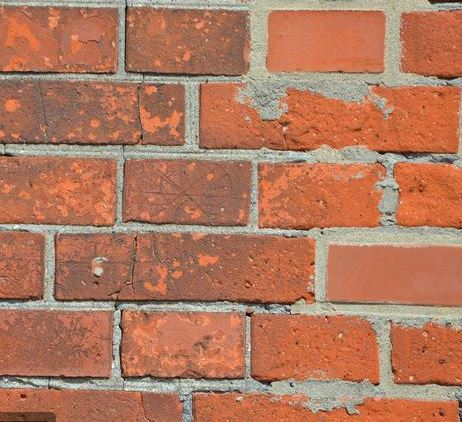brick: (50, 230, 318, 307), (194, 81, 462, 157), (1, 81, 187, 145), (119, 307, 247, 381), (325, 240, 462, 309), (257, 160, 387, 231), (124, 5, 253, 75), (250, 312, 377, 383), (189, 387, 462, 420), (121, 158, 254, 225), (263, 7, 388, 76), (1, 4, 119, 77), (1, 308, 117, 380), (1, 154, 118, 225), (1, 391, 186, 421), (384, 320, 462, 386), (390, 161, 462, 230), (400, 12, 462, 80)
